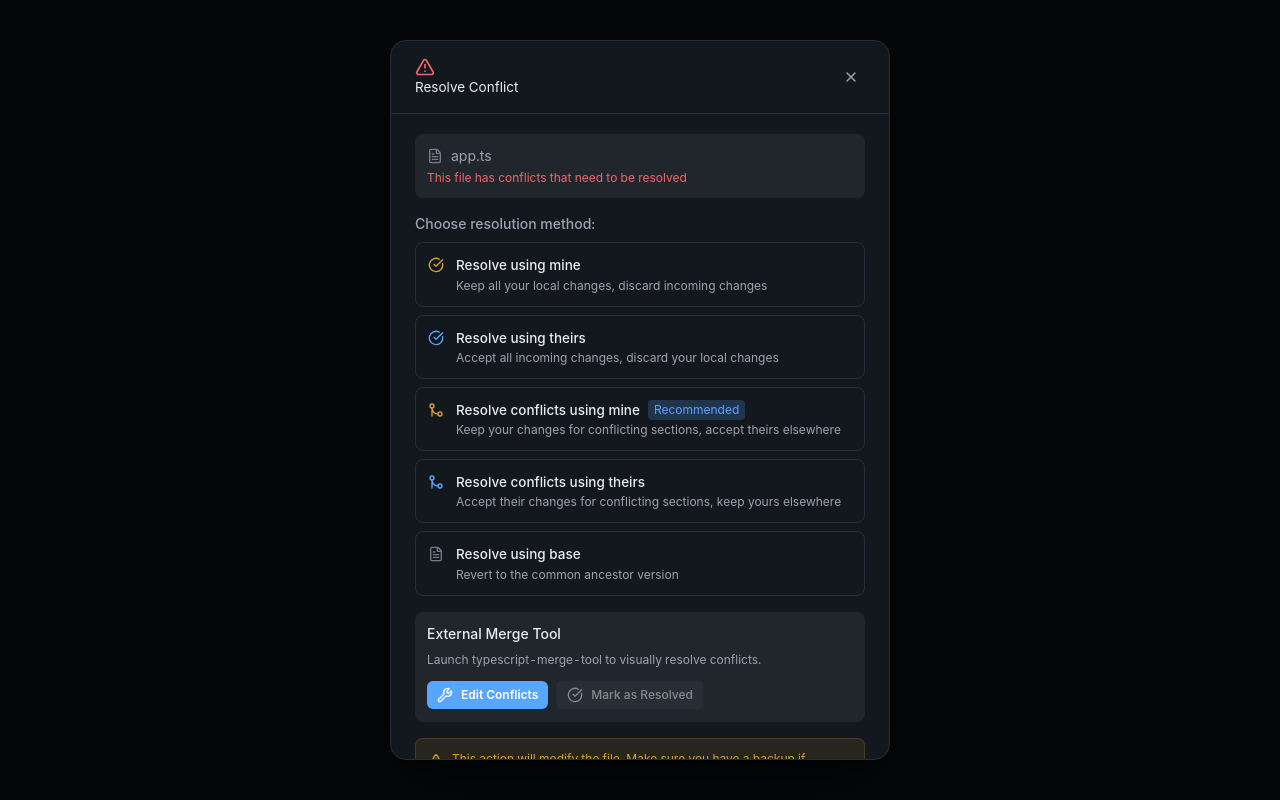
Test: external merge tool launch › launches the configured per-extension merge tool with discovered conflict files
This screenshot has width=1280, height=800.
Check: the text "Launch typescript-merge-tool to visually resolve conflicts." is shown, box [427,652,761,666]
Step 1. Click the button "Edit Conflicts" → (488, 694), box [427,680,548,708]
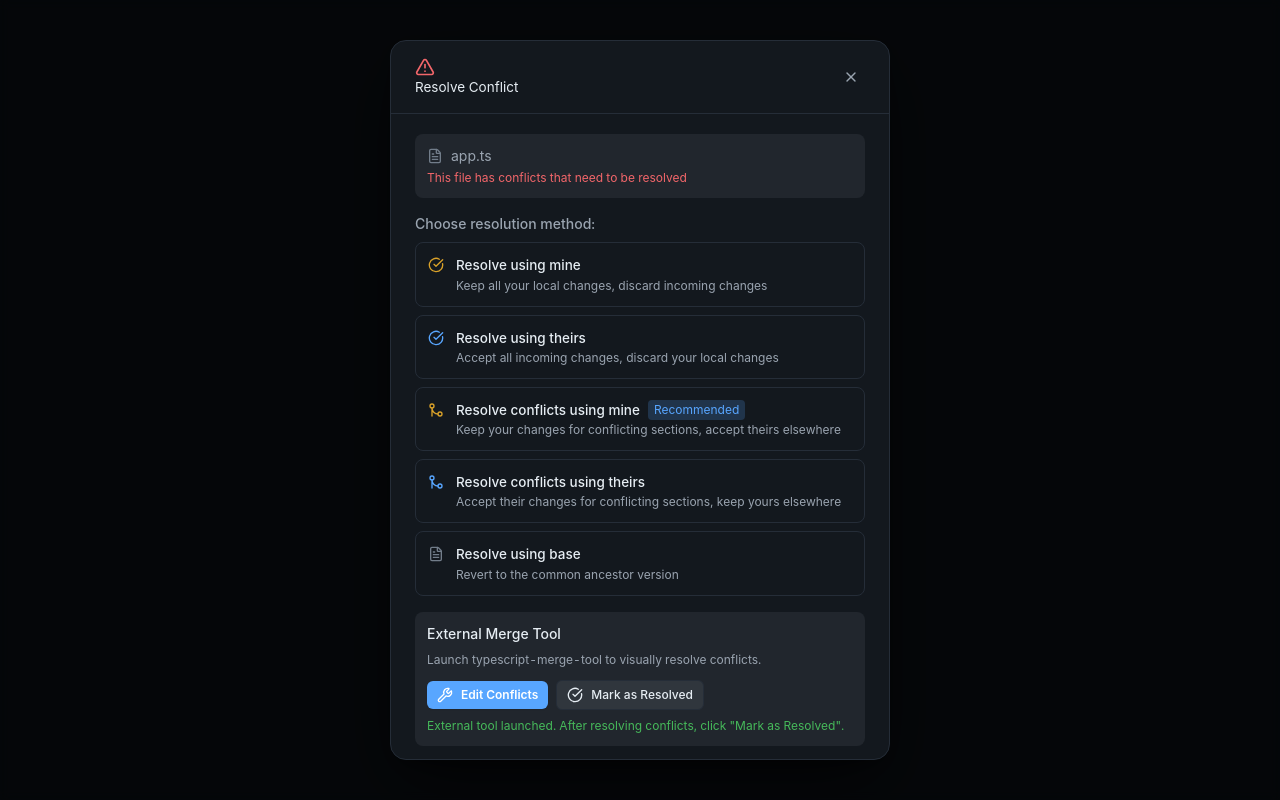
Check: the text "External tool launched" is shown, box [427,718,844,732]
